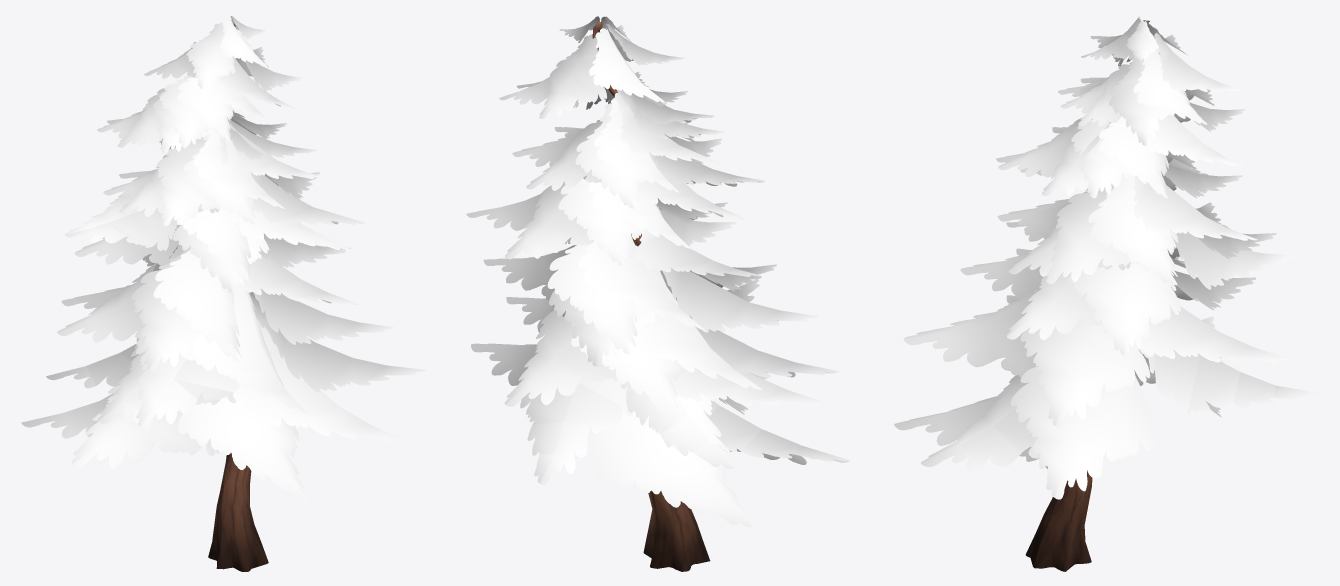
The model's file is Pine_5.glb.
3 renders of one model, left to right at view 1: azimuth 30°, elevation 25°; view 2: azimuth 150°, elevation 25°; view 3: azimuth 270°, elevation 25°, orthographic. The views are drawn at different scales.
Visible parts, largest first — view 1: Pine_5; view 2: Pine_5; view 3: Pine_5.
Boxes of the visible parts, left/top/right/bottom form: Pine_5: left=21, top=16, right=425, bottom=571; Pine_5: left=466, top=16, right=849, bottom=571; Pine_5: left=894, top=17, right=1317, bottom=571.
Size of the model in its own units: 6.42 by 8.72 by 6.22.
2 materials, 2 textured.
